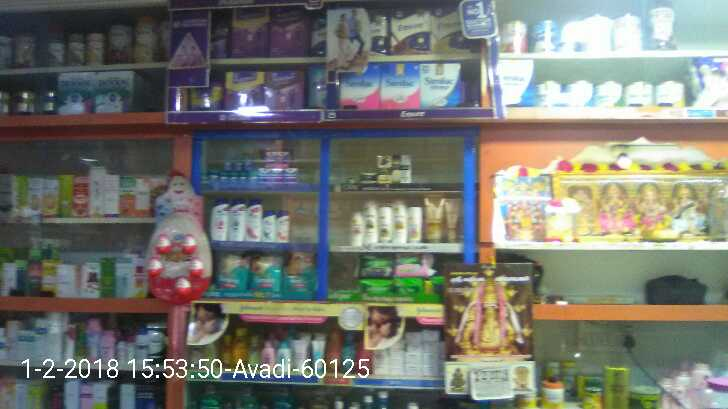vicks: (203, 139, 303, 182)
